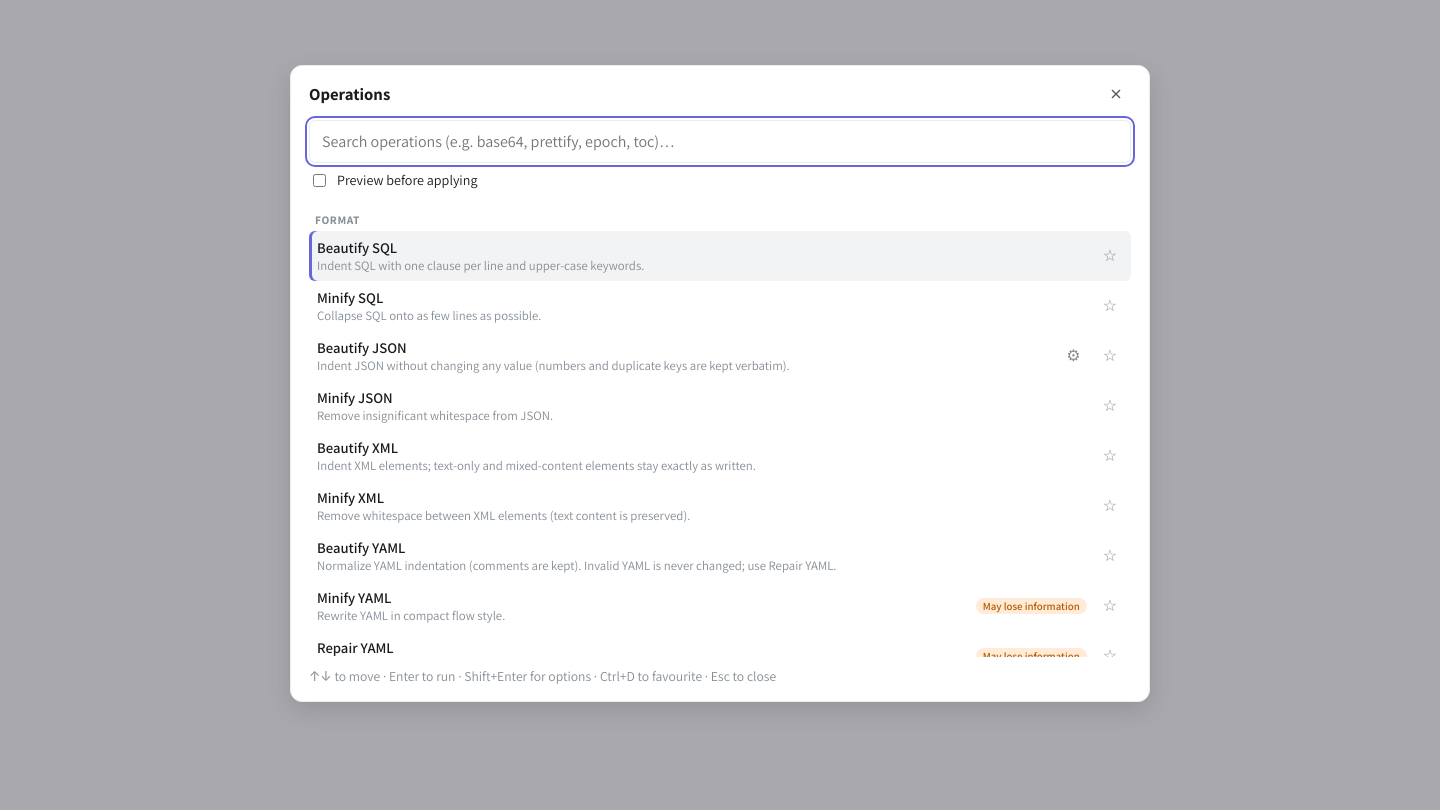
OperationPalette › keeps relevance order across categories (regression)
Type "upper case" into the dropdown at (720, 141), box [309,120,1131,163]
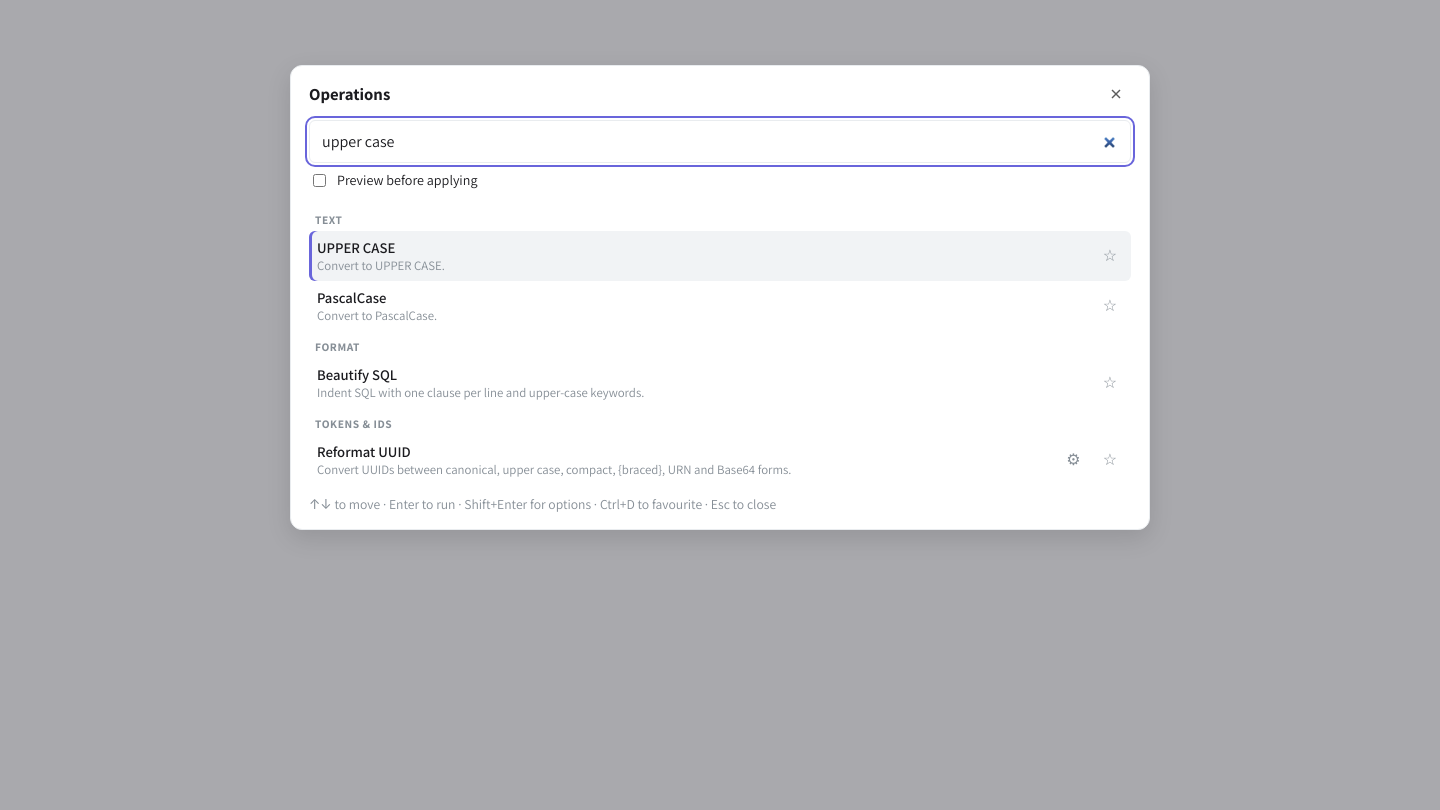
Now the option "UPPER CASE Convert to UPPER CASE. ☆" is shown, box [309,231,1131,281]
